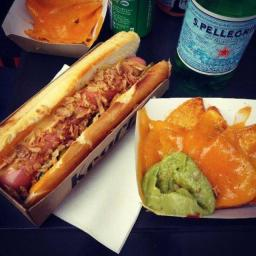hotdog: (0, 26, 174, 209)
